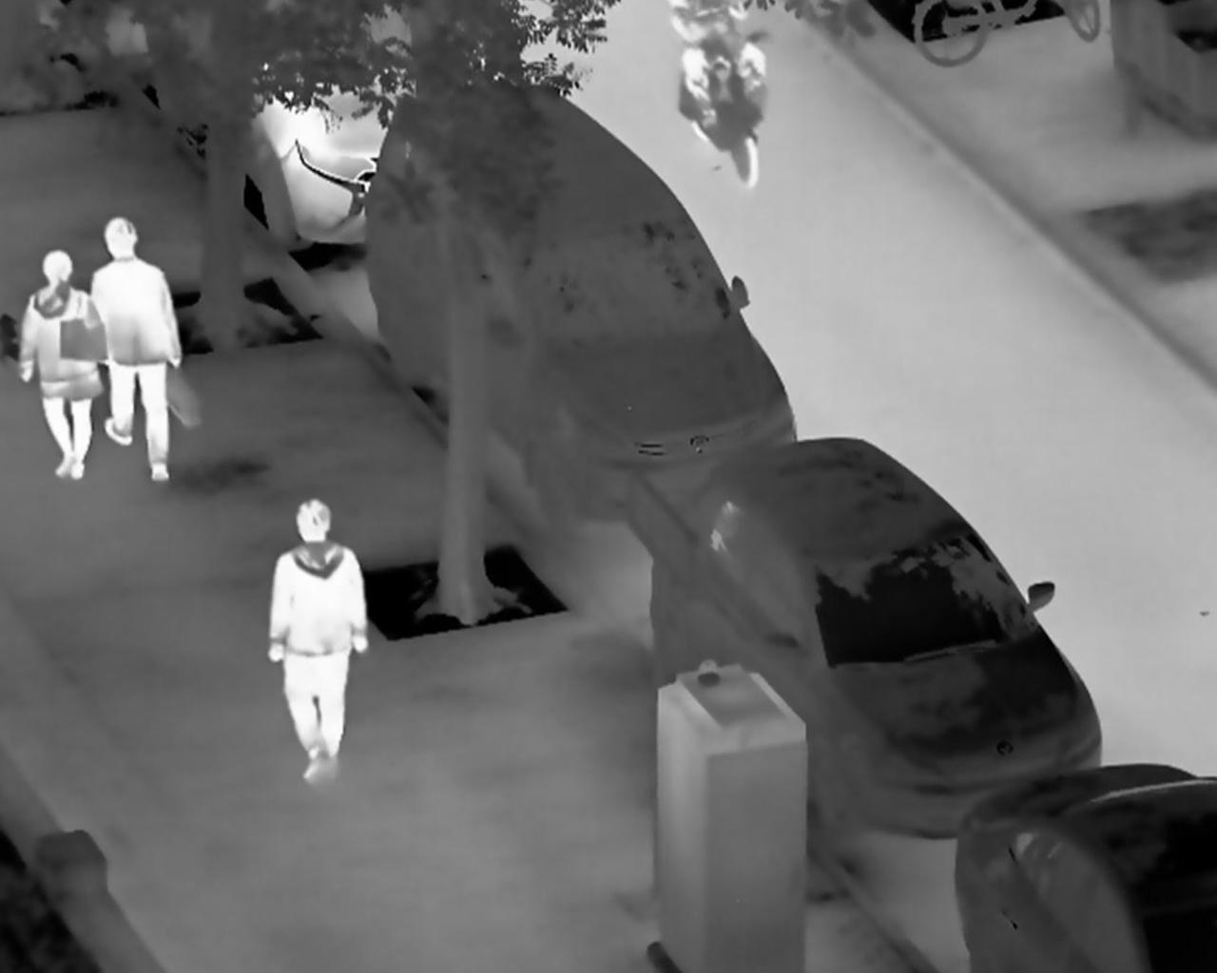person: (265, 498, 369, 785), (85, 216, 182, 485), (18, 249, 109, 479)
